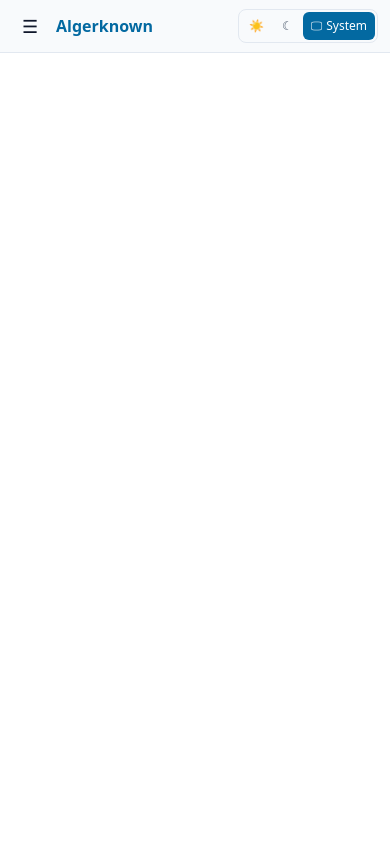
Test: Sidebar shell › keeps every route reachable from the drawer
The image size is (390, 844).
Click the button named "Open navigation menu": {"x": 30, "y": 26} x1=12 y1=8 x2=48 y2=44
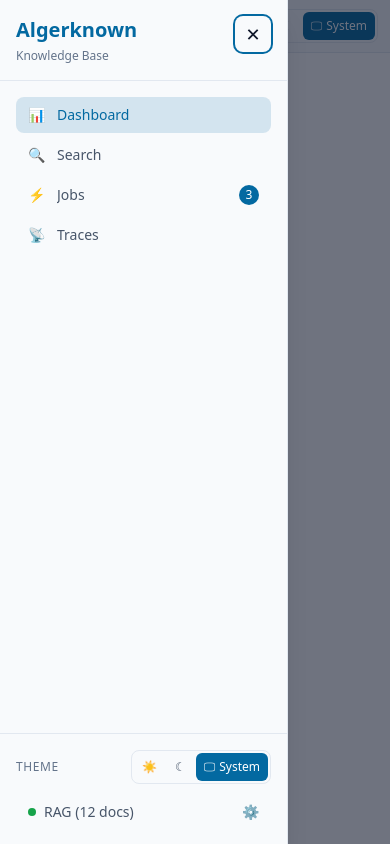
expect the dialog named "Main navigation" is shown: met
expect the text "Dashboard" is shown: met, box x1=57 y1=105 x2=130 y2=124
expect the text "Search" is shown: met, box x1=57 y1=145 x2=101 y2=164
